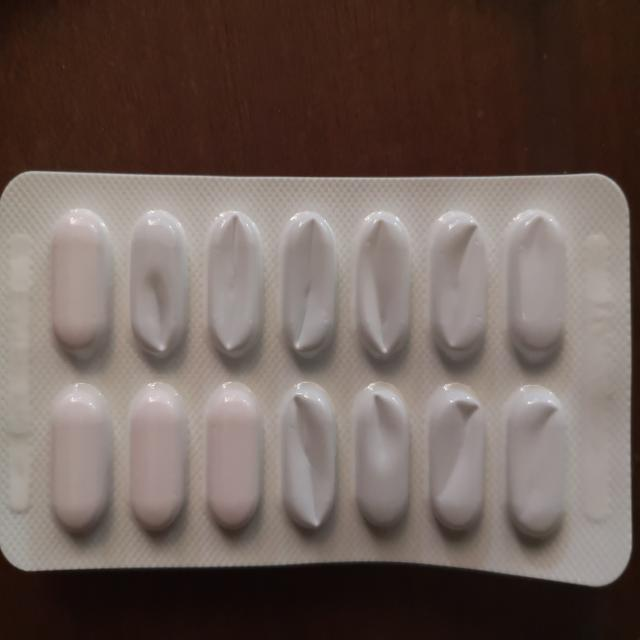Empty: (421, 376, 493, 544), (500, 200, 572, 367), (198, 200, 268, 370), (273, 203, 346, 366), (502, 377, 574, 542), (351, 200, 418, 372), (349, 376, 418, 543), (124, 202, 191, 372), (428, 204, 493, 369), (276, 380, 343, 538)
Pill: (124, 377, 198, 542), (42, 199, 114, 363), (48, 376, 118, 540), (204, 379, 269, 544)
